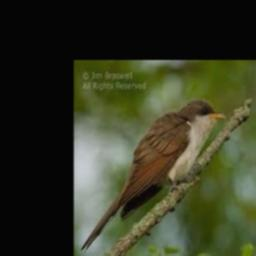Cuckoo: (80, 99, 225, 252)
